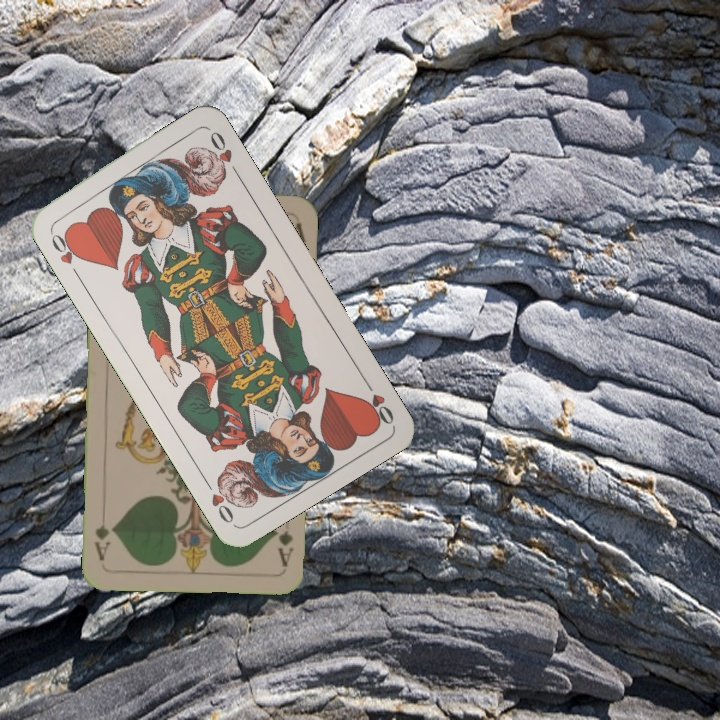GA: (275, 527, 296, 569)
HO: (45, 226, 86, 280), (358, 373, 397, 428)
